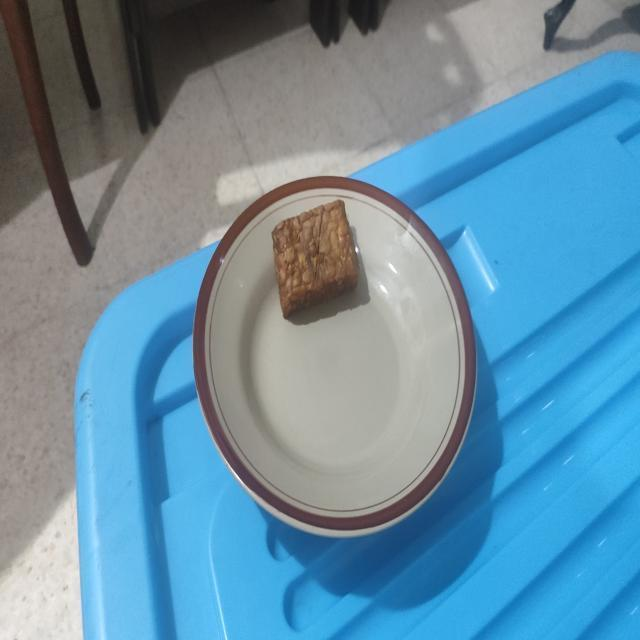tempe_goreng: (272, 200, 359, 318)
